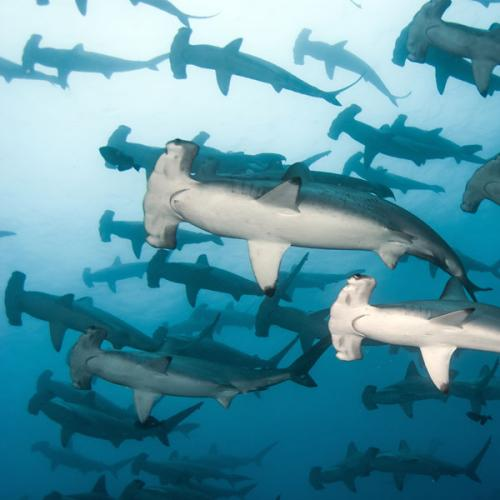shark-endangered: (146, 135, 463, 283), (327, 265, 500, 392), (66, 322, 322, 404), (5, 262, 161, 352), (401, 0, 500, 82)
